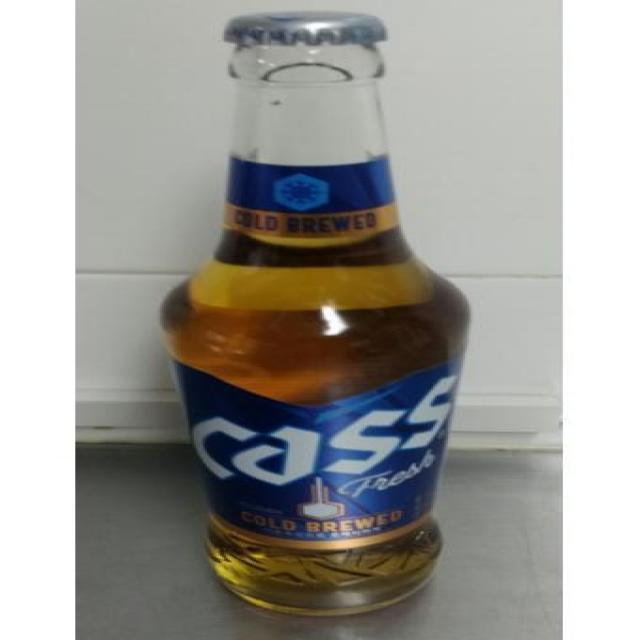beer-bottle: (161, 10, 483, 615)
